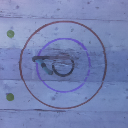Axe Tip: (38, 56, 48, 59)
